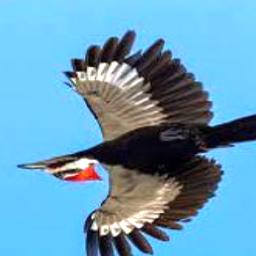Woodpecker: (16, 30, 256, 256)
